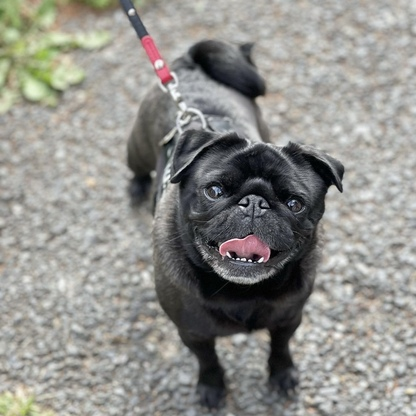Pug: (117, 36, 352, 412)
